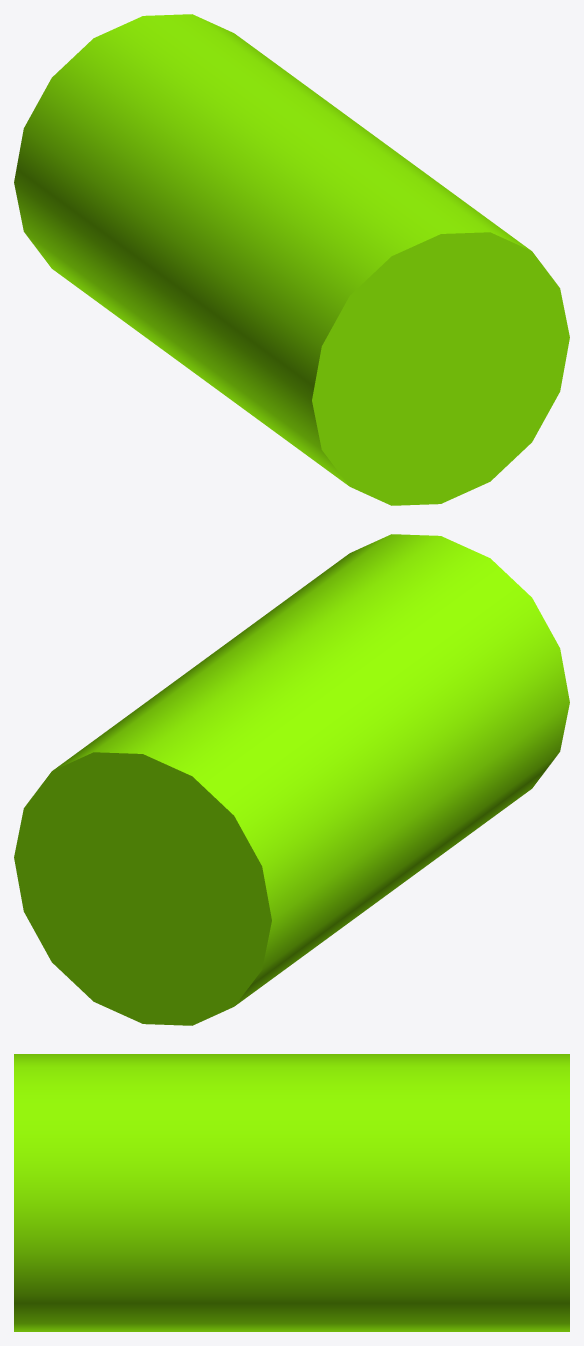
Rendered from bullet.fbx.
3 renders of one model, top to bottom at view 1: azimuth 30°, elevation 25°; view 2: azimuth 150°, elevation 25°; view 3: azimuth 270°, elevation 25°, orthographic. The views are drawn at different scales.
Parts seen in each view (by area): view 1: bullet; view 2: bullet; view 3: bullet.
Boxes of the visible parts, x1=… form: bullet: x1=14, y1=14, x2=569, y2=505; bullet: x1=14, y1=534, x2=569, y2=1025; bullet: x1=14, y1=1054, x2=569, y2=1331.
Bounding box in the file's own units: 5.1 × 5.1 × 10.2.
